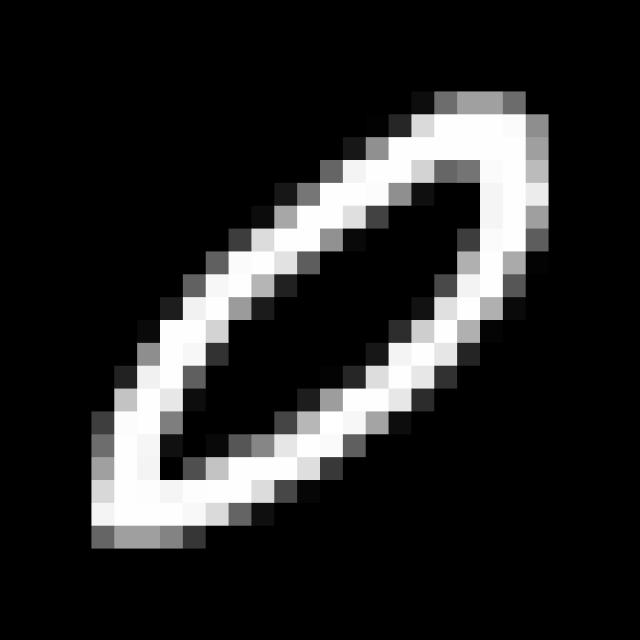zero -0-: (78, 80, 566, 567)
